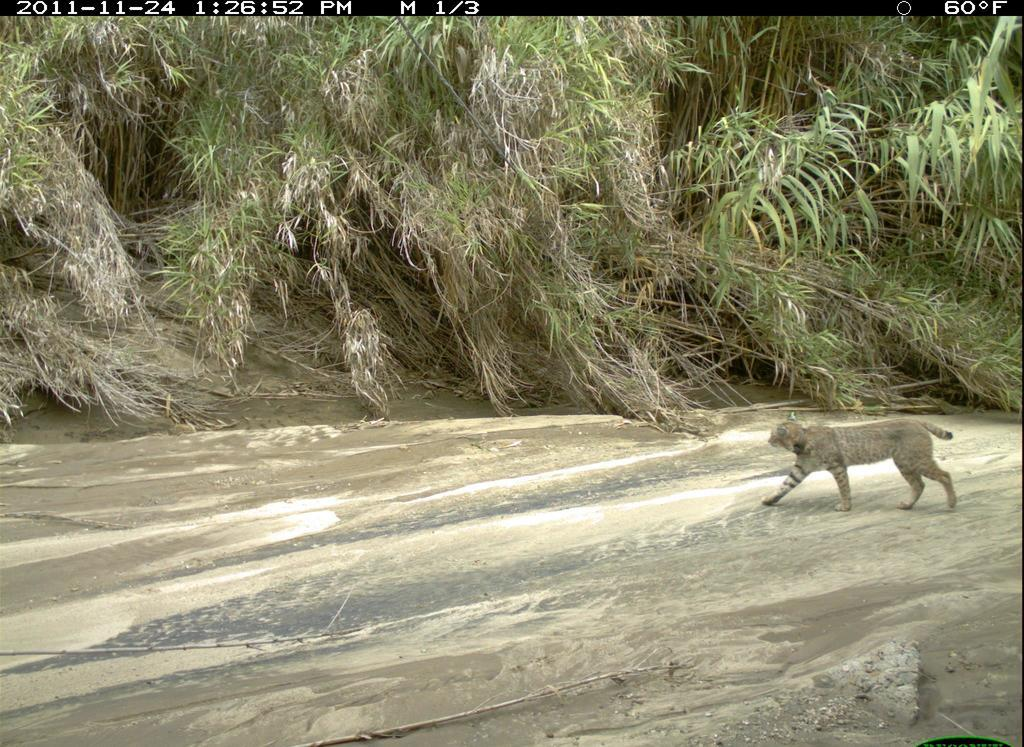bobcat: (762, 408, 966, 520)
